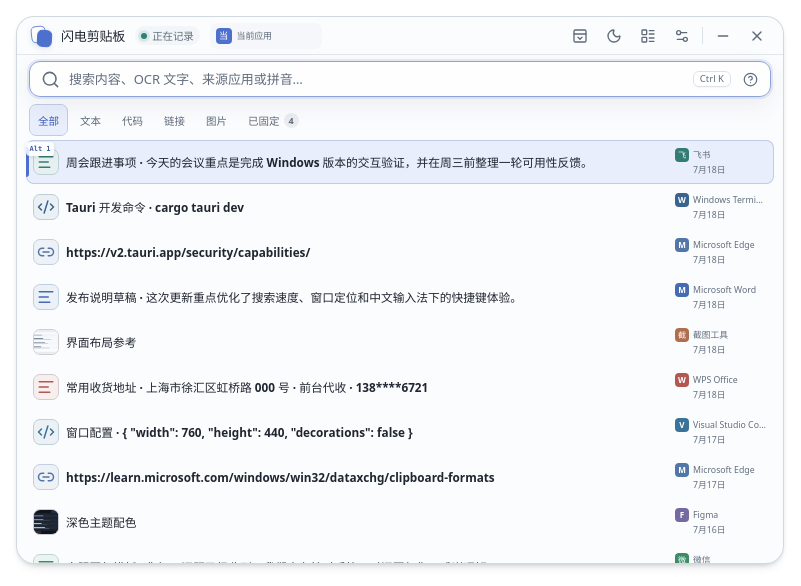
Scenario: quick panel high-frequency interaction › highlights compatibility-equivalent text while preserving original glyphs
The width and height of the screenshot is (801, 586).
Type "ＴＡＵＲＩ" into the dropdown with test id "search-input" at (400,79), box [29, 61, 771, 97]
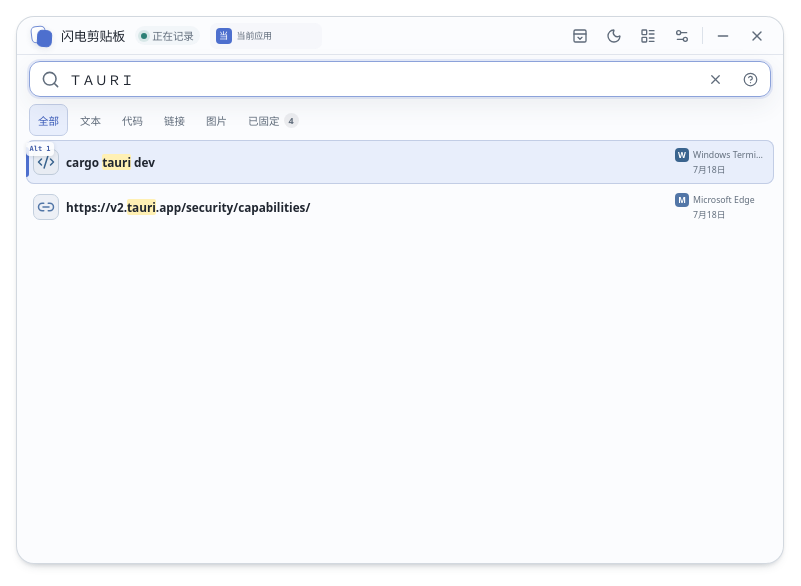
Now the elements with class "search-highlight" read "tauri", in this order, box [127, 199, 156, 215]
